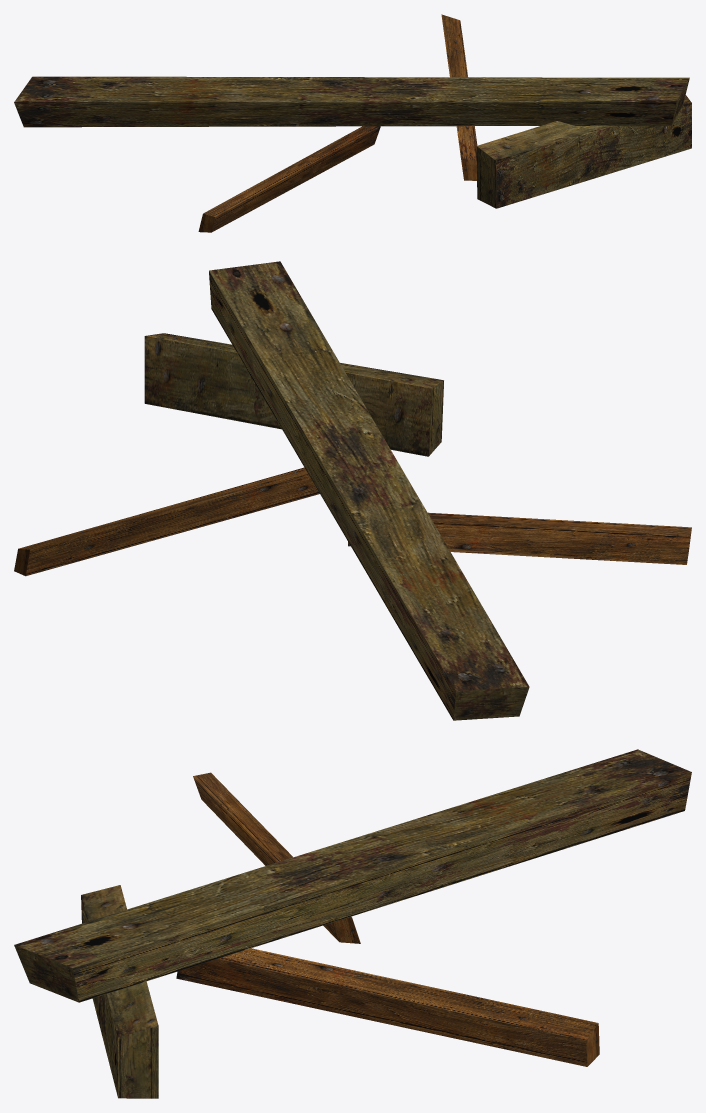
Rendered from mm9_deco_lumberdebris03.glb.
The picture shows the model from 3 angles, top to bottom: view 1: azimuth 30°, elevation 25°; view 2: azimuth 150°, elevation 25°; view 3: azimuth 270°, elevation 25°; orthographic projection. The views are drawn at different scales.
Visible parts, largest first — view 1: Lumberdebris03; view 2: Lumberdebris03; view 3: Lumberdebris03.
Part boxes in pixels (x1,y1,x2,y2): Lumberdebris03: (14, 14, 691, 232); Lumberdebris03: (14, 261, 691, 720); Lumberdebris03: (14, 749, 691, 1098).
Bounding box in the file's own units: 2.35 × 0.4222 × 2.12.
Materials: 1 (1 with a texture image).
